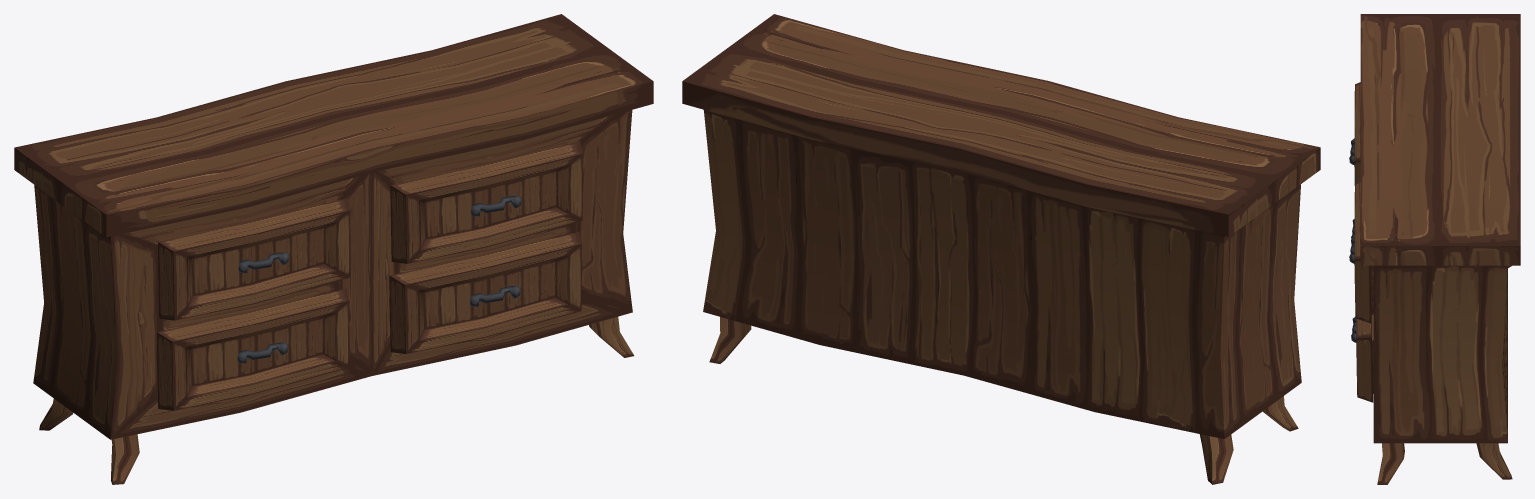
Rendered from SM_PROP_dresser_interior_02.fbx.
3 renders of one model, left to right at view 1: azimuth 30°, elevation 25°; view 2: azimuth 150°, elevation 25°; view 3: azimuth 270°, elevation 25°, orthographic. The views are drawn at different scales.
Visible parts, largest first — view 1: SM_PROP_dresser_interior_02, SM_PROP_dresser_drawer_01_interior_02, SM_PROP_dresser_drawer_02_interior_02, SM_PROP_dresser_drawer_03_interior_02, SM_PROP_dresser_drawer_04_interior_02; view 2: SM_PROP_dresser_interior_02; view 3: SM_PROP_dresser_interior_02, SM_PROP_dresser_drawer_03_interior_02, SM_PROP_dresser_drawer_04_interior_02, SM_PROP_dresser_drawer_01_interior_02.
Boxes of the visible parts, <box> form: SM_PROP_dresser_interior_02: <box>14,14,653,484</box>; SM_PROP_dresser_drawer_01_interior_02: <box>158,198,350,320</box>; SM_PROP_dresser_drawer_02_interior_02: <box>157,288,349,410</box>; SM_PROP_dresser_drawer_03_interior_02: <box>390,141,582,263</box>; SM_PROP_dresser_drawer_04_interior_02: <box>389,231,581,353</box>; SM_PROP_dresser_interior_02: <box>682,14,1320,484</box>; SM_PROP_dresser_interior_02: <box>1360,14,1520,484</box>; SM_PROP_dresser_drawer_03_interior_02: <box>1349,180,1373,323</box>; SM_PROP_dresser_drawer_04_interior_02: <box>1351,314,1373,402</box>; SM_PROP_dresser_drawer_01_interior_02: <box>1349,82,1360,185</box>.
Bounding box in the file's own units: 193 × 93.95 × 60.1.
